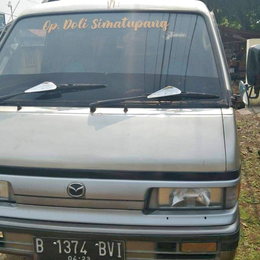plate: (30, 234, 128, 260)
